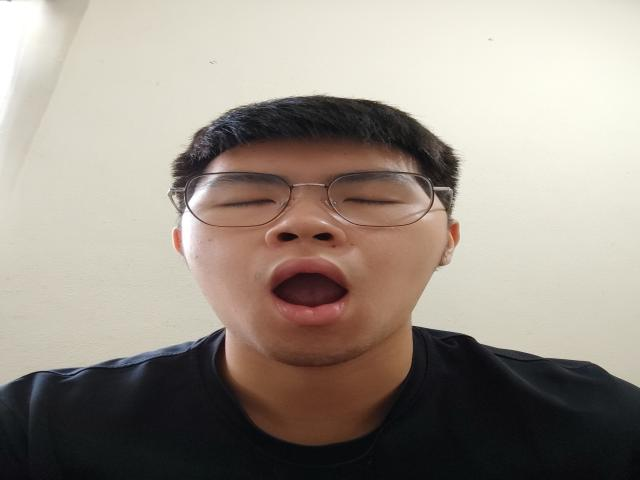eye_closed: (200, 190, 282, 214), (336, 190, 422, 211)
face: (187, 134, 446, 368)
mouth_open: (252, 259, 367, 329)
